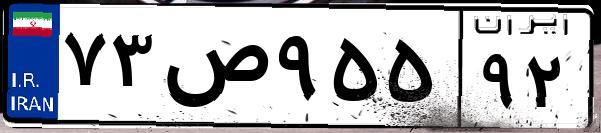2: (525, 38, 570, 115)
3: (110, 28, 158, 98)
5: (385, 28, 445, 110), (330, 28, 385, 110)
7: (57, 26, 110, 100)
9: (270, 28, 330, 110), (475, 38, 525, 113)
ص: (158, 20, 270, 120)
